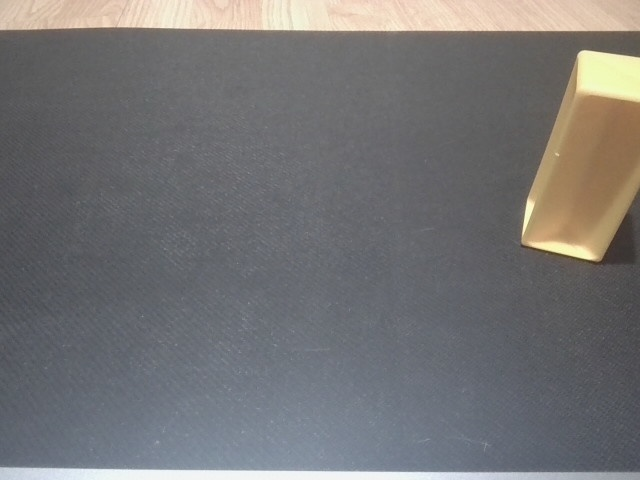YellowSample: (515, 48, 640, 266)
